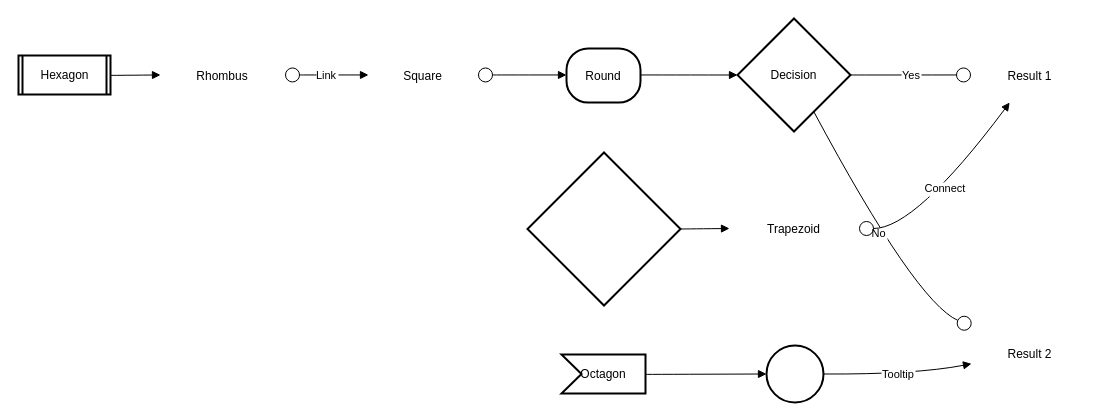
Image size: 1105x420. Some labels were removed from this diagram. Each missing label, with the box of its shape:
Circle: (765, 344, 824, 403)
Parallelogram: (526, 151, 681, 306)
